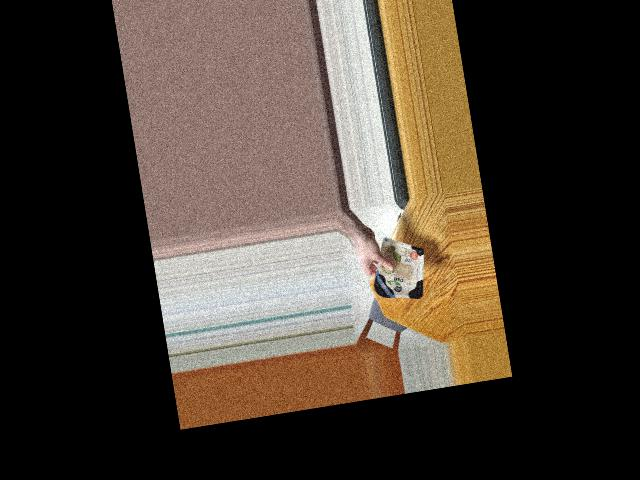cheese: (370, 242, 429, 303)
